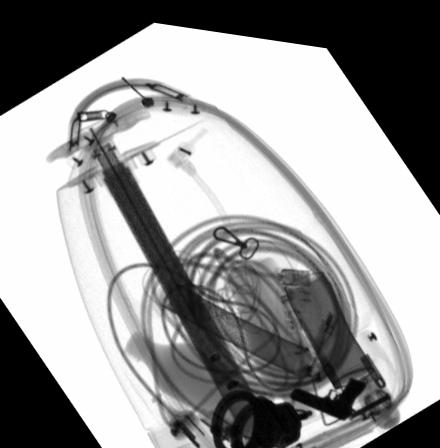Gun: (287, 364, 368, 410)
HandCuffs: (209, 381, 302, 448)
